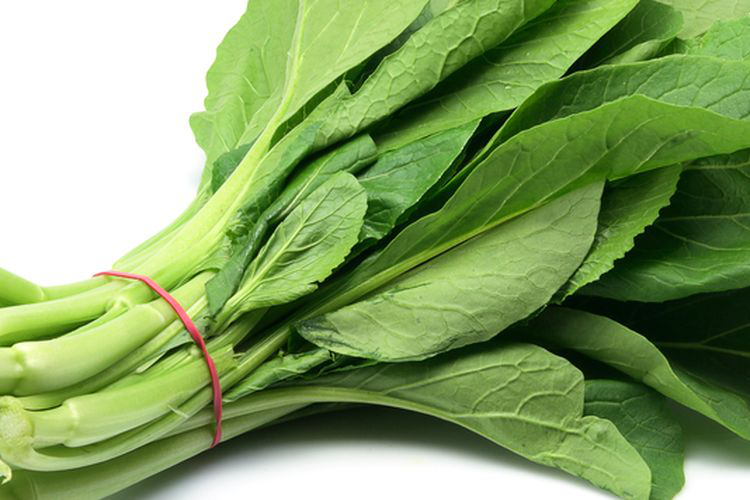Sawi: (2, 9, 748, 500)
